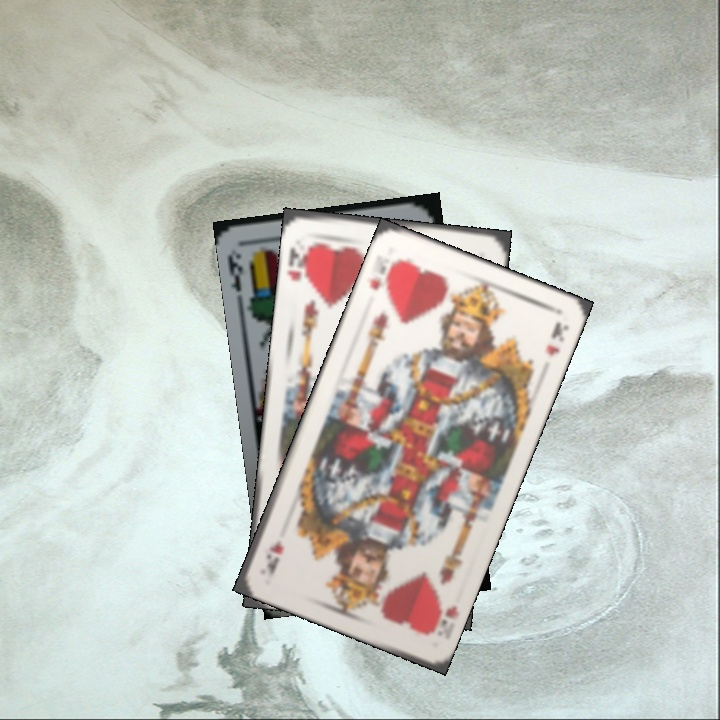EK: (224, 250, 246, 294)
HK: (423, 596, 461, 638), (365, 254, 401, 296), (284, 241, 314, 286)
